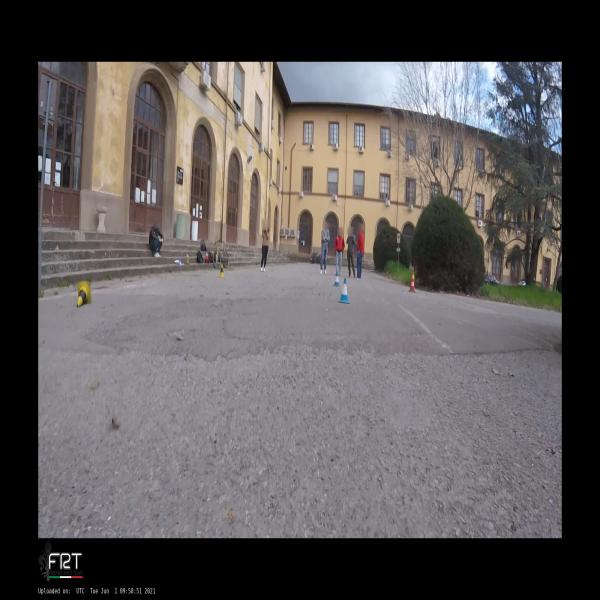blue_cone: (339, 278, 350, 303), (334, 271, 339, 286)
large_orange_cone: (409, 273, 415, 292)
orange_cone: (205, 250, 209, 262)
unknown_cone: (185, 255, 190, 264)
yellow_cone: (77, 281, 92, 308), (219, 263, 224, 277)
